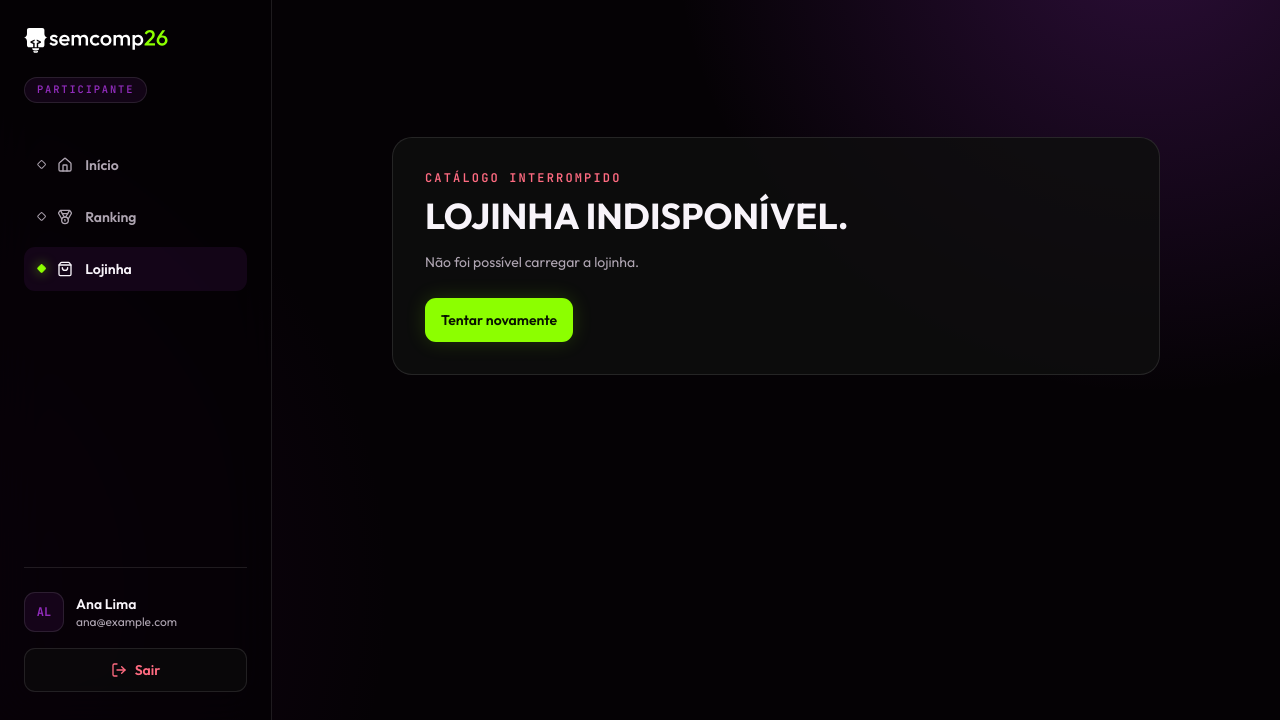
Test: ShopClient › trata catálogo vazio e permite tentar novamente após erro
Click the button "Tentar novamente" at [499, 320], box [425,298,573,342]
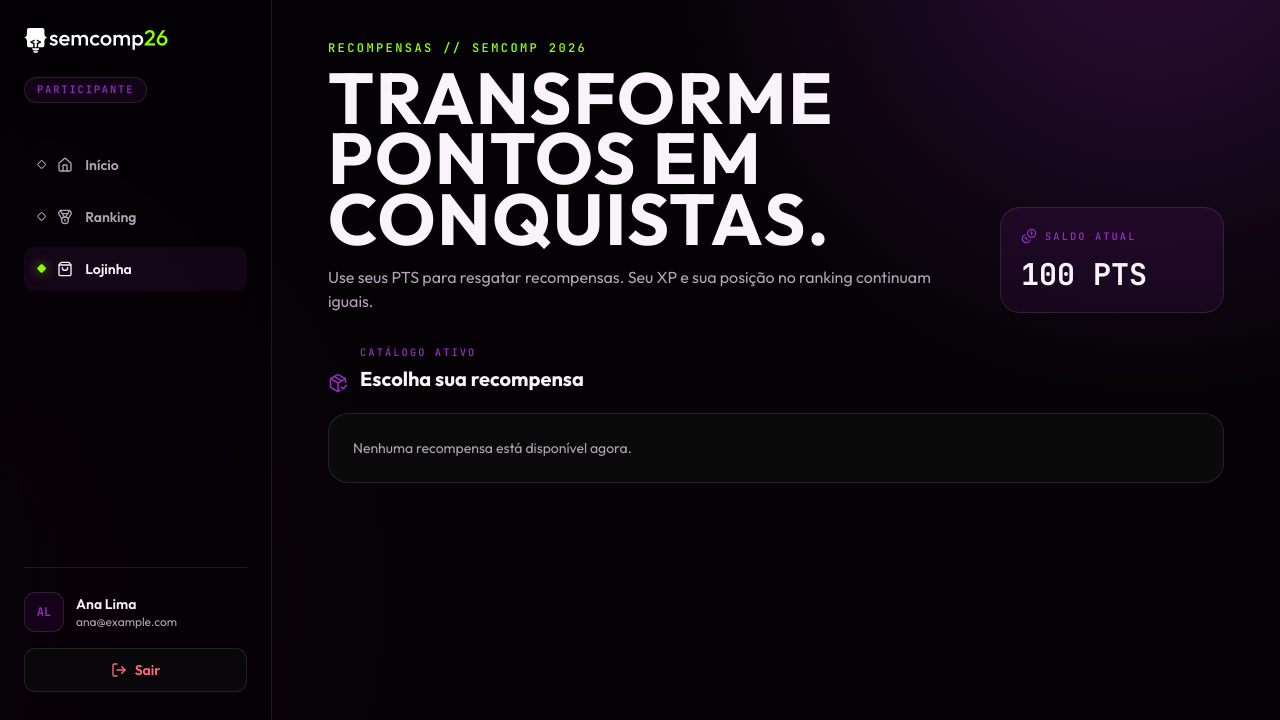
Expected: the text "Nenhuma recompensa está disponível agora." is shown, [328,413,1224,483]
